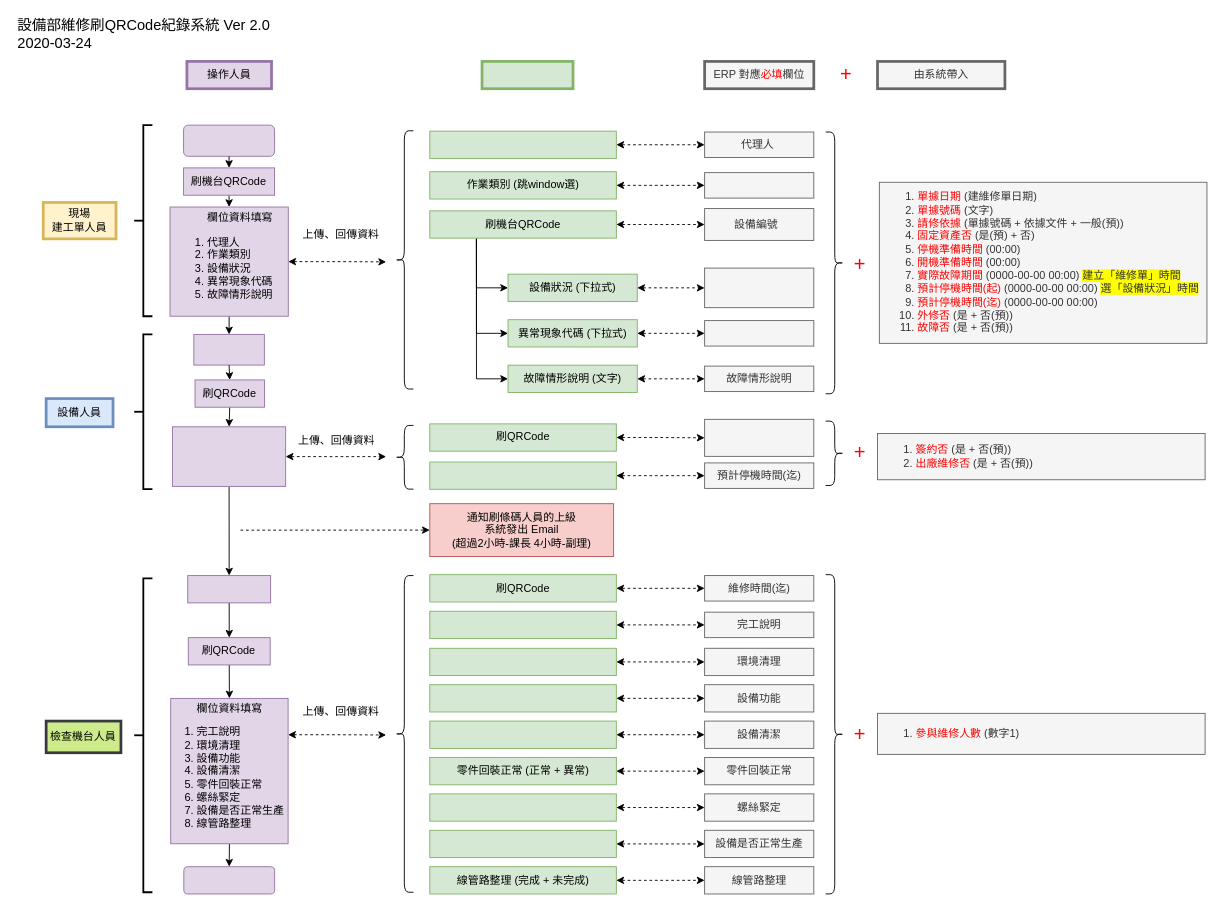
Some shapes in this 1223 by 910 pixel diagram are drawn without their labels. Here are the shapes that lost their labels. From the top down, the box of each, then its label:
(480, 60, 574, 90): 前研開發
(183, 124, 275, 156): 建立維修單
(429, 130, 616, 158): 代理人 (跳window選)
(704, 172, 814, 198): 作業類別
(704, 267, 814, 308): 設備狀況 機台狀況
(193, 334, 264, 365): 開始維修
(704, 320, 814, 346): 異常現象代碼
(172, 426, 286, 486): 欄位資料填寫 預計停機時間(迄)
(704, 418, 814, 456): 實際停機期間 維修時間 (起)
(429, 461, 616, 489): 預計停機時間(迄) (日期)
(187, 575, 271, 603): 結束維修
(429, 610, 616, 639): 完工說明 (文字)
(429, 647, 616, 676): 環境清理 (完成 + 未完成)
(429, 684, 616, 712): 設備功能 (正常 + 異常)
(429, 720, 616, 748): 設備清潔 ( 完成 + 未完成)
(429, 793, 616, 821): 螺絲緊定 ( 正常 + 異常)
(429, 829, 616, 858): 設備是否正常生產 ( 正常 + 異常)
(183, 866, 275, 894): 完成
